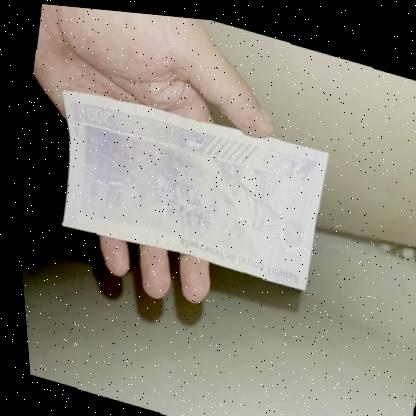vef_back: (31, 73, 335, 294)
